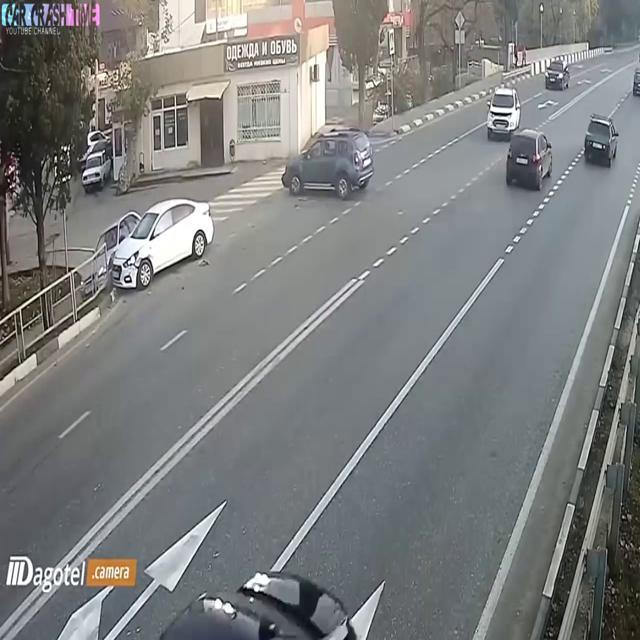accident: (98, 193, 215, 297)
